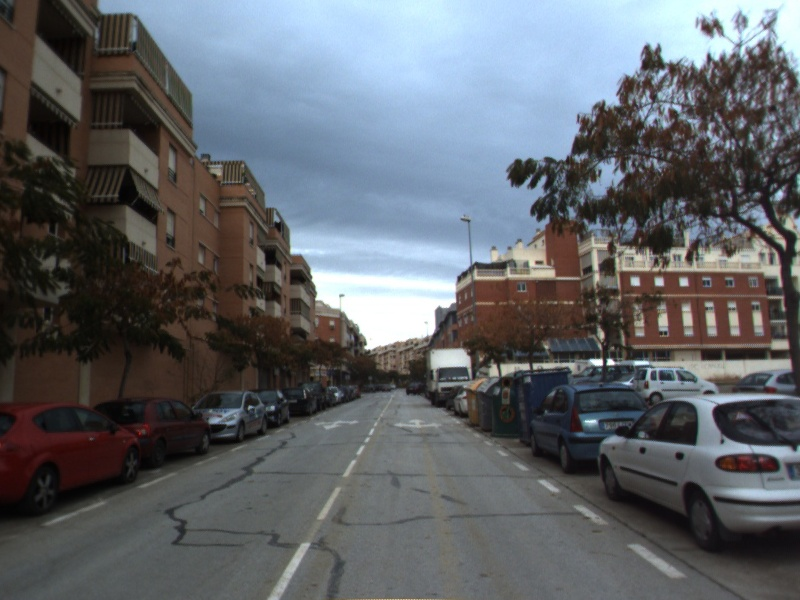STRAIGHT_LEFT_RIGHT: (392, 416, 444, 430)
